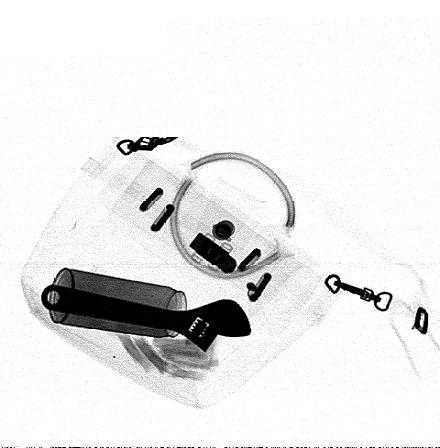Wrench: (39, 283, 252, 353)
